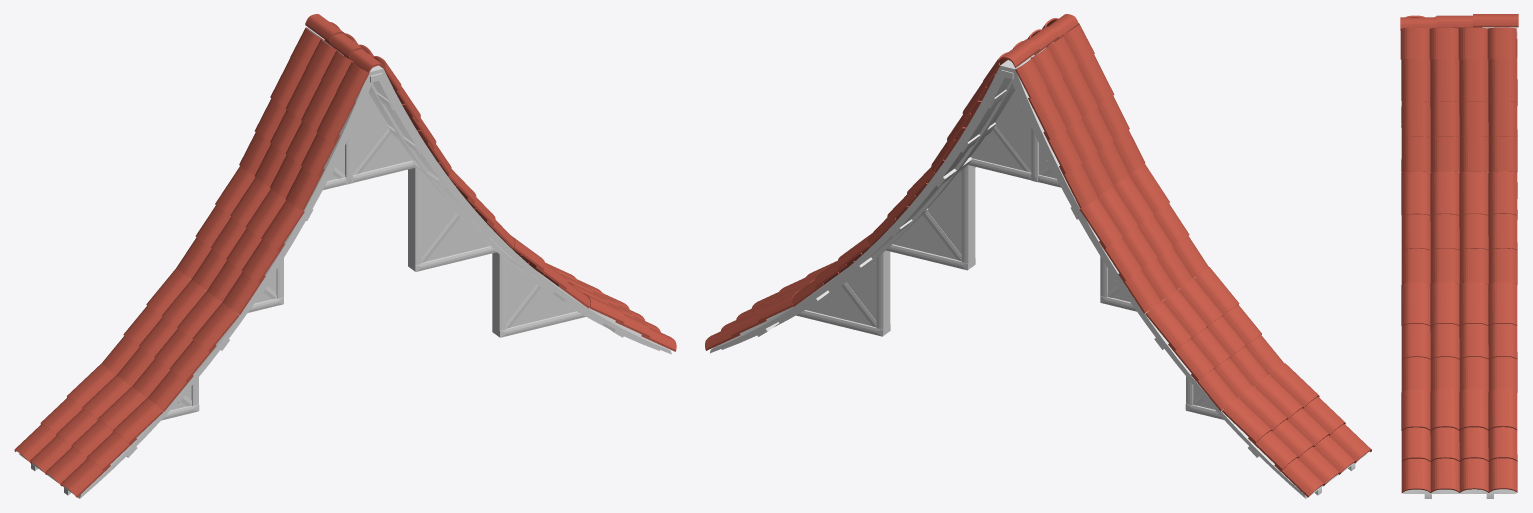
File: L_Roof_Frame.fbx
3 views of the same model, side by side, from view 1: azimuth 30°, elevation 25°; view 2: azimuth 150°, elevation 25°; view 3: azimuth 270°, elevation 25° (orthographic). The views are drawn at different scales.
Parts seen in each view (by area): view 1: L_Roof_Tiles.001, L_Roof_Frame, Cube.012, Cube.023, Cube.032; view 2: L_Roof_Tiles.001, L_Roof_Frame, Cube.012, Cube.023, Cube.032; view 3: L_Roof_Tiles.001, L_Roof_Frame.
Boxes of the visible parts, x1,y1,x2,y2 form: L_Roof_Tiles.001: [14, 14, 676, 497]; L_Roof_Frame: [19, 27, 671, 498]; Cube.012: [408, 167, 585, 337]; Cube.023: [323, 128, 415, 190]; Cube.032: [126, 73, 624, 457]; L_Roof_Tiles.001: [705, 14, 1371, 497]; L_Roof_Frame: [710, 42, 1366, 498]; Cube.012: [796, 165, 975, 336]; Cube.023: [968, 125, 1060, 187]; Cube.032: [756, 70, 1258, 457]; L_Roof_Tiles.001: [1400, 14, 1518, 492]; L_Roof_Frame: [1402, 27, 1516, 498].
Bounding box in the file's own units: 1965 × 1151 × 354.
